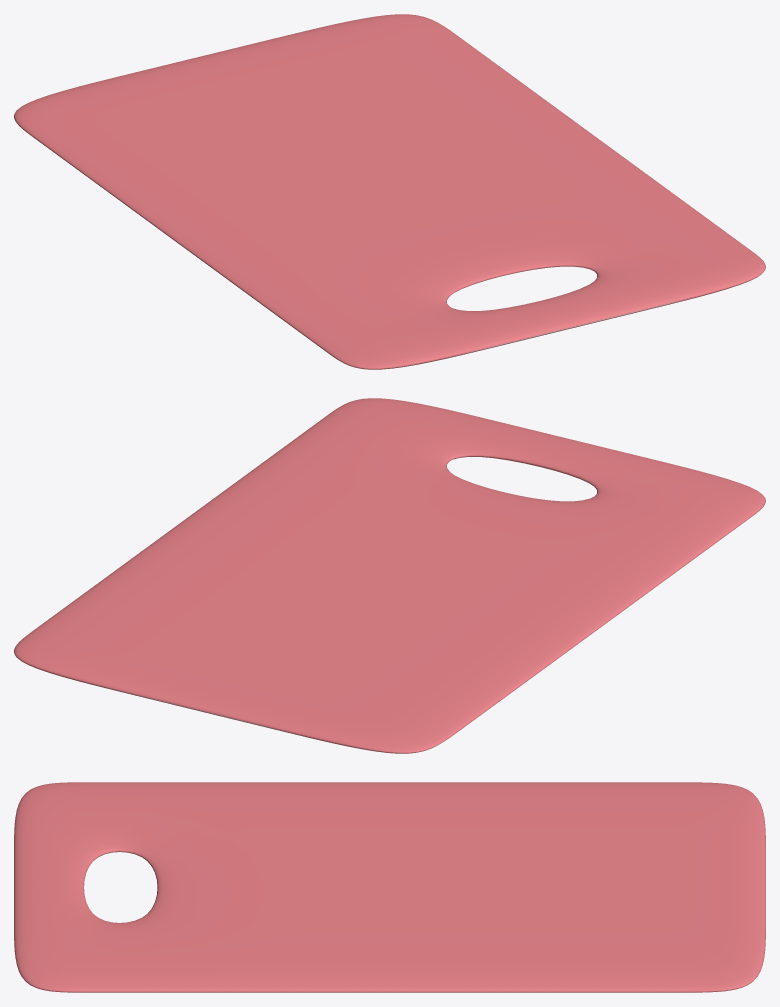
The model's file is SM_Doma.fbx.
3 views of the same model, one above another, from view 1: azimuth 30°, elevation 25°; view 2: azimuth 150°, elevation 25°; view 3: azimuth 270°, elevation 25° (orthographic).
Parts seen in each view (by area): view 1: SM_Doma; view 2: SM_Doma; view 3: SM_Doma.
Part boxes in pixels (x1,y1,x2,y2): SM_Doma: (14,14,765,369); SM_Doma: (14,398,765,753); SM_Doma: (14,782,765,992).
Bounding box in the file's own units: 65.28 × 1.5 × 99.03.
